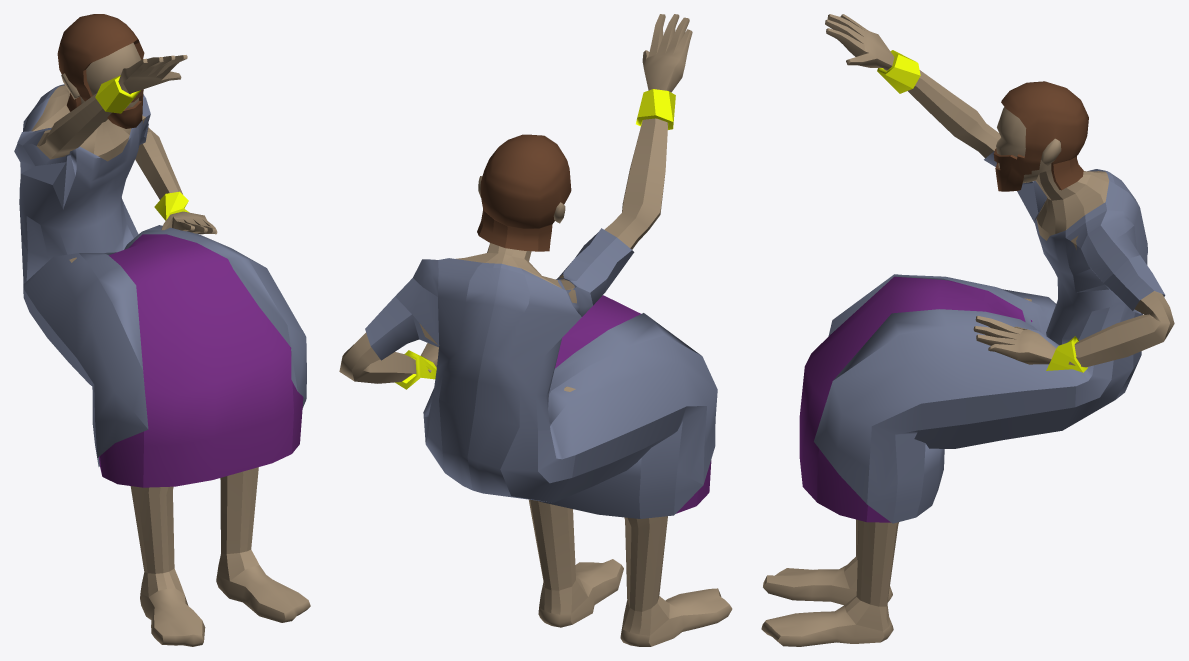
File: Hombre1_Sit.fbx
3 views of the same model, side by side, from view 1: azimuth 30°, elevation 25°; view 2: azimuth 150°, elevation 25°; view 3: azimuth 270°, elevation 25° (orthographic). The views are drawn at different scales.
Visible parts, largest first — view 1: Hombre1_Sit; view 2: Hombre1_Sit; view 3: Hombre1_Sit.
Part boxes in pixels (x1=…): Hombre1_Sit: x1=14, y1=14, x2=310, y2=646; Hombre1_Sit: x1=339, y1=14, x2=732, y2=646; Hombre1_Sit: x1=761, y1=14, x2=1174, y2=646.
Size of the model in its own units: 483 by 1262 by 824.
